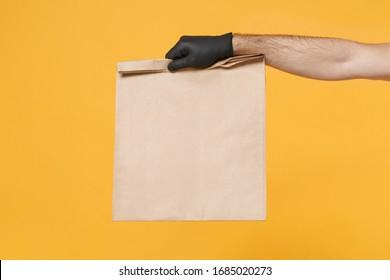gloves: (164, 31, 235, 73)
